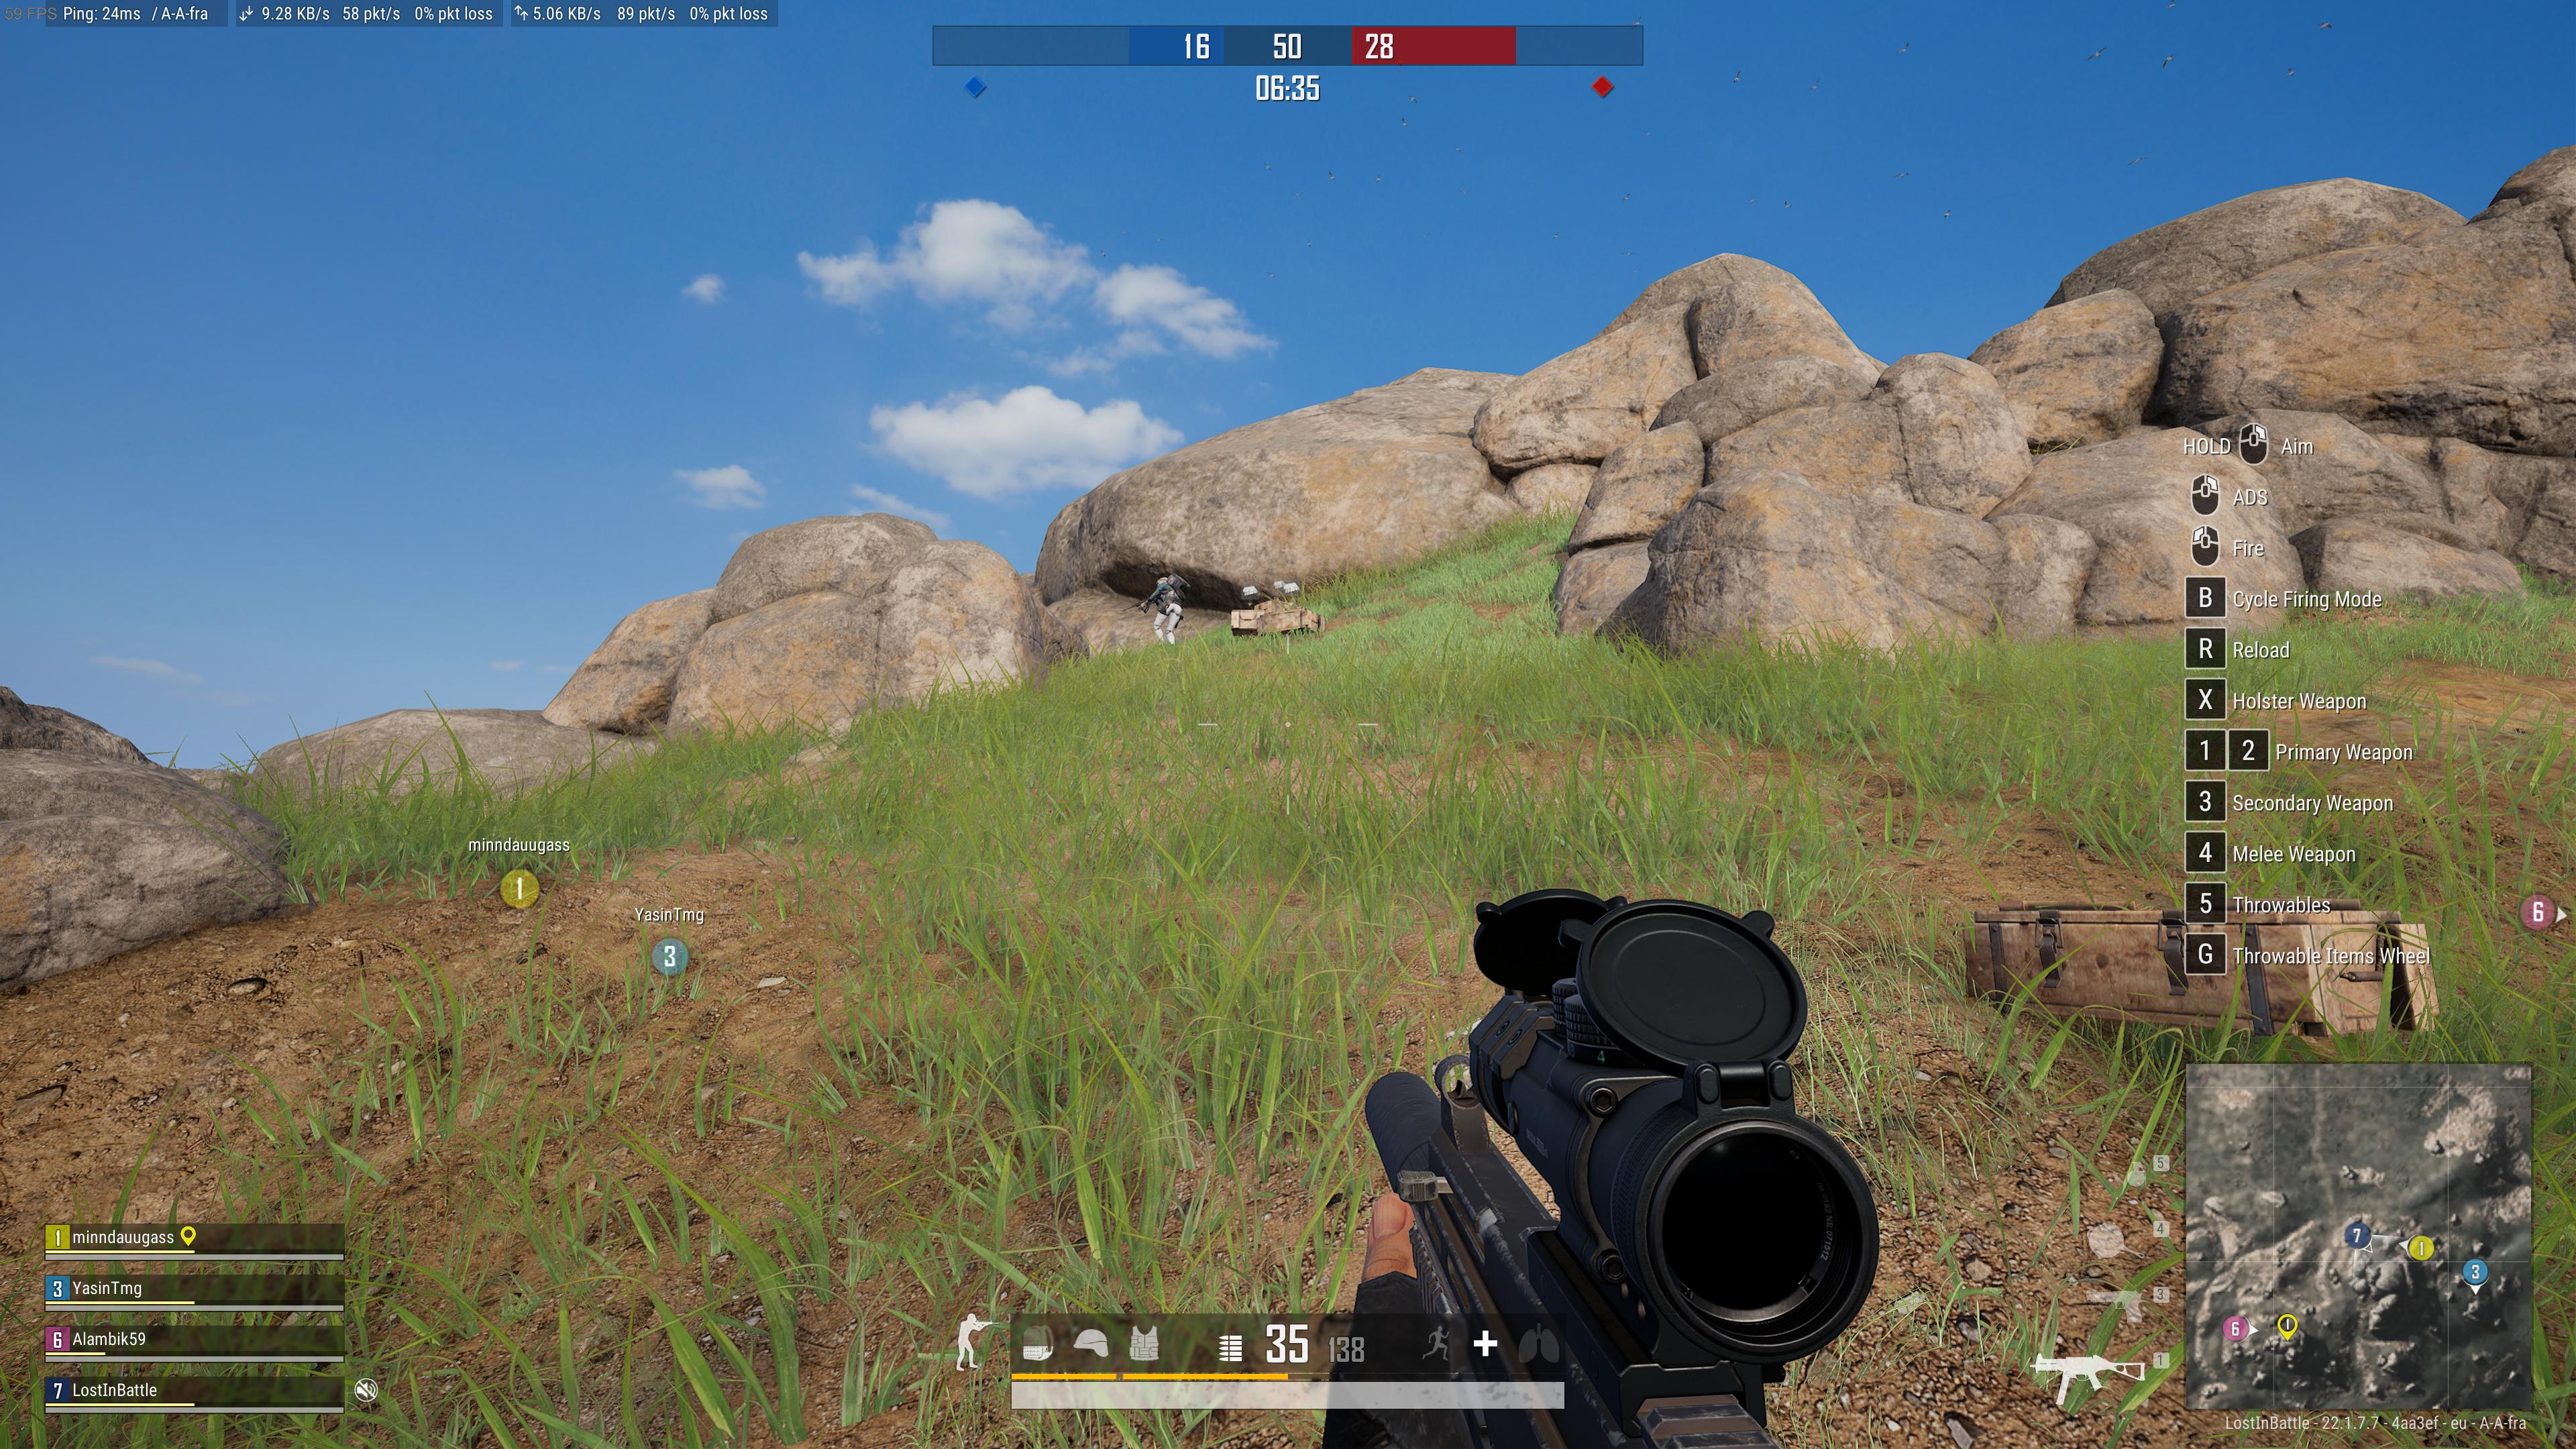enemy: (1138, 573, 1187, 646)
enemy_head: (1155, 577, 1169, 587)
